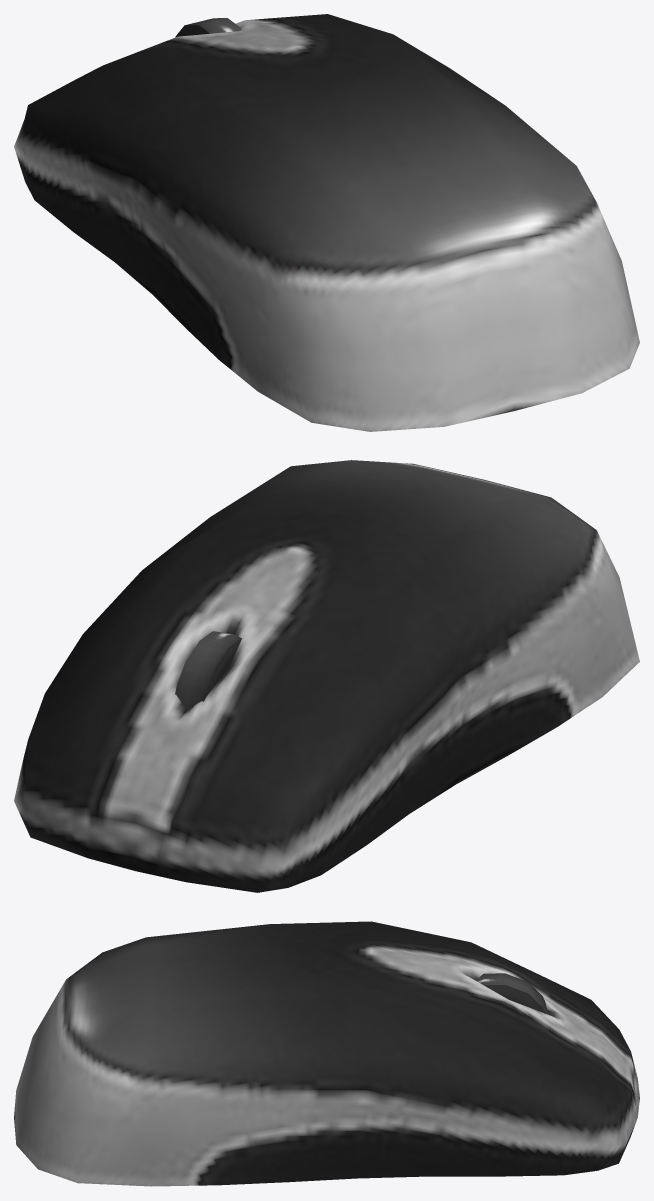
Rendered from Mouse.FBX.
The picture shows the model from 3 angles, top to bottom: view 1: azimuth 30°, elevation 25°; view 2: azimuth 150°, elevation 25°; view 3: azimuth 270°, elevation 25°; orthographic projection. The views are drawn at different scales.
Parts seen in each view (by area): view 1: Mouse; view 2: Mouse; view 3: Mouse.
Boxes of the visible parts, box(x1,y1,x2,y2) form: Mouse: box(14, 14, 639, 431); Mouse: box(14, 460, 639, 892); Mouse: box(14, 921, 639, 1186).
Bounding box in the file's own units: 3.59 × 6.92 × 2.05.
Materials: 1 (1 with a texture image).
